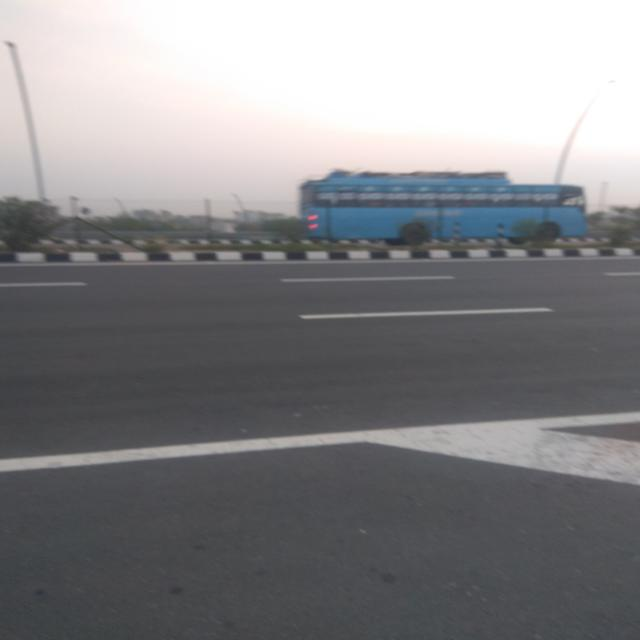Bus: (298, 167, 629, 246)
